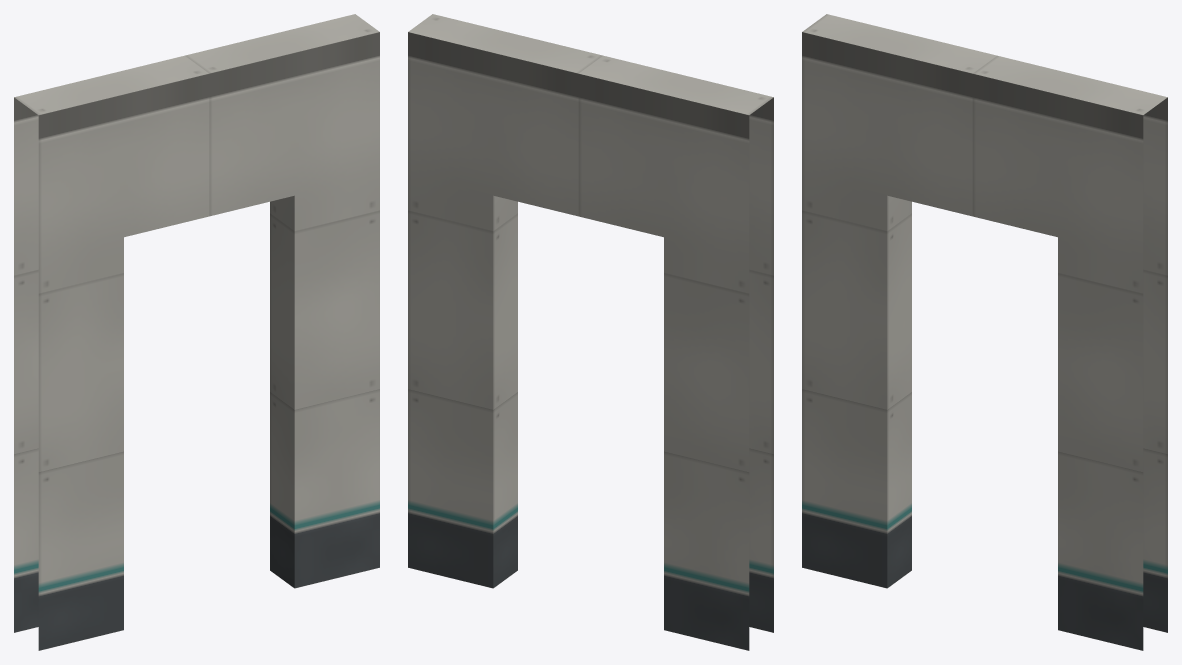
File: wall_ss_doorway.fbx
3 renders of one model, left to right at view 1: azimuth 30°, elevation 25°; view 2: azimuth 150°, elevation 25°; view 3: azimuth 330°, elevation 25°, orthographic.
Parts seen in each view (by area): view 1: wall_ss_doorway; view 2: wall_ss_doorway; view 3: wall_ss_doorway.
Part boxes in pixels (bbox=[...]): wall_ss_doorway: bbox=[14, 14, 379, 650]; wall_ss_doorway: bbox=[408, 14, 773, 650]; wall_ss_doorway: bbox=[802, 14, 1167, 650].
Bounding box in the file's own units: 2 × 3 × 0.25.
1 material, 1 textured.
